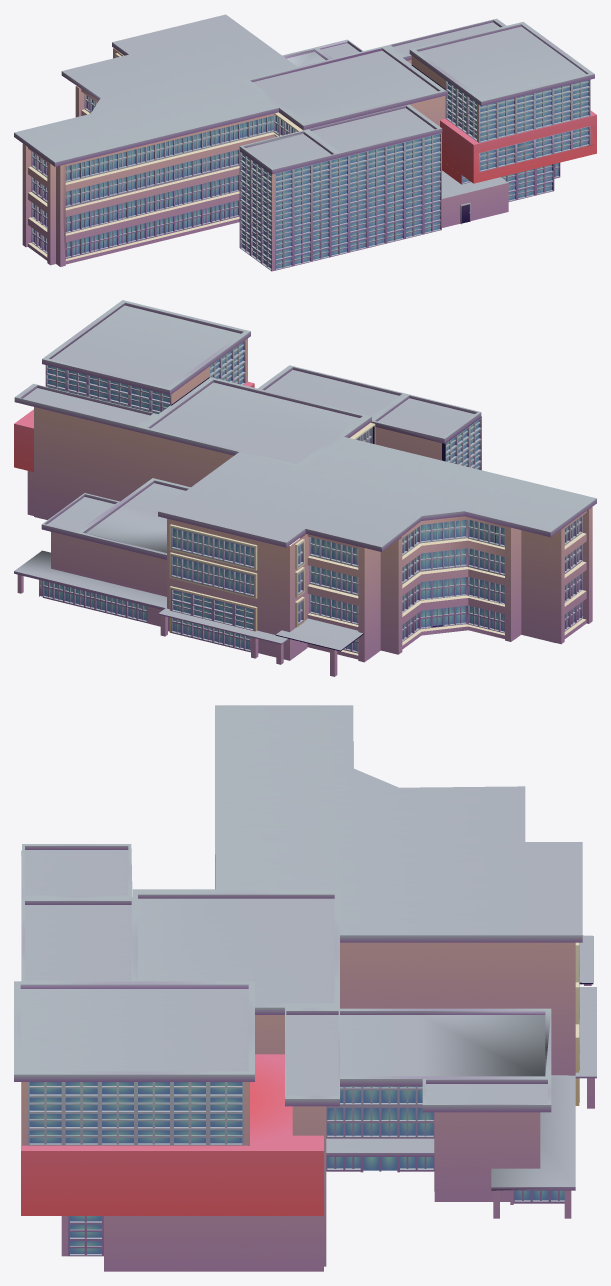
Rendered from SM_Hospital.fbx.
3 views of the same model, one above another, from view 1: azimuth 30°, elevation 25°; view 2: azimuth 150°, elevation 25°; view 3: azimuth 270°, elevation 25° (orthographic). The views are drawn at different scales.
Parts seen in each view (by area): view 1: SM_Hospital; view 2: SM_Hospital; view 3: SM_Hospital.
Part boxes in pixels (x1=…): SM_Hospital: x1=14, y1=14, x2=596, y2=271; SM_Hospital: x1=14, y1=300, x2=596, y2=676; SM_Hospital: x1=14, y1=705, x2=596, y2=1271.
Size of the model in its own units: 42.95 by 16.55 by 69.41.
